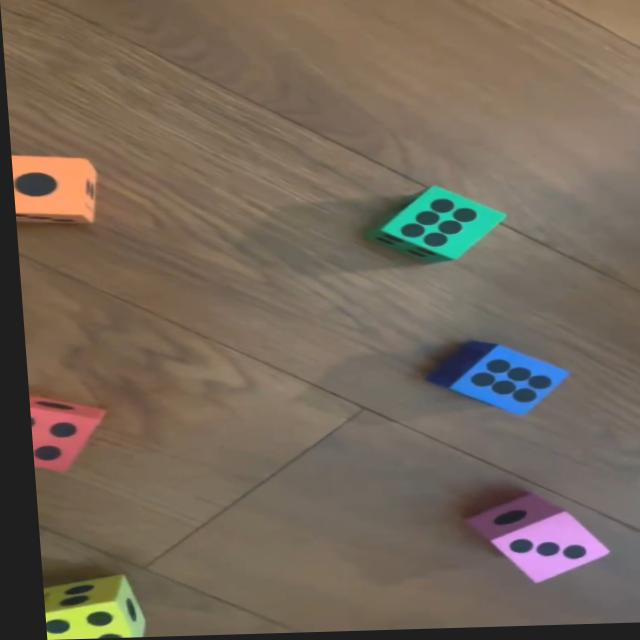blue_block: (424, 341, 564, 419)
red_block: (23, 395, 106, 472)
